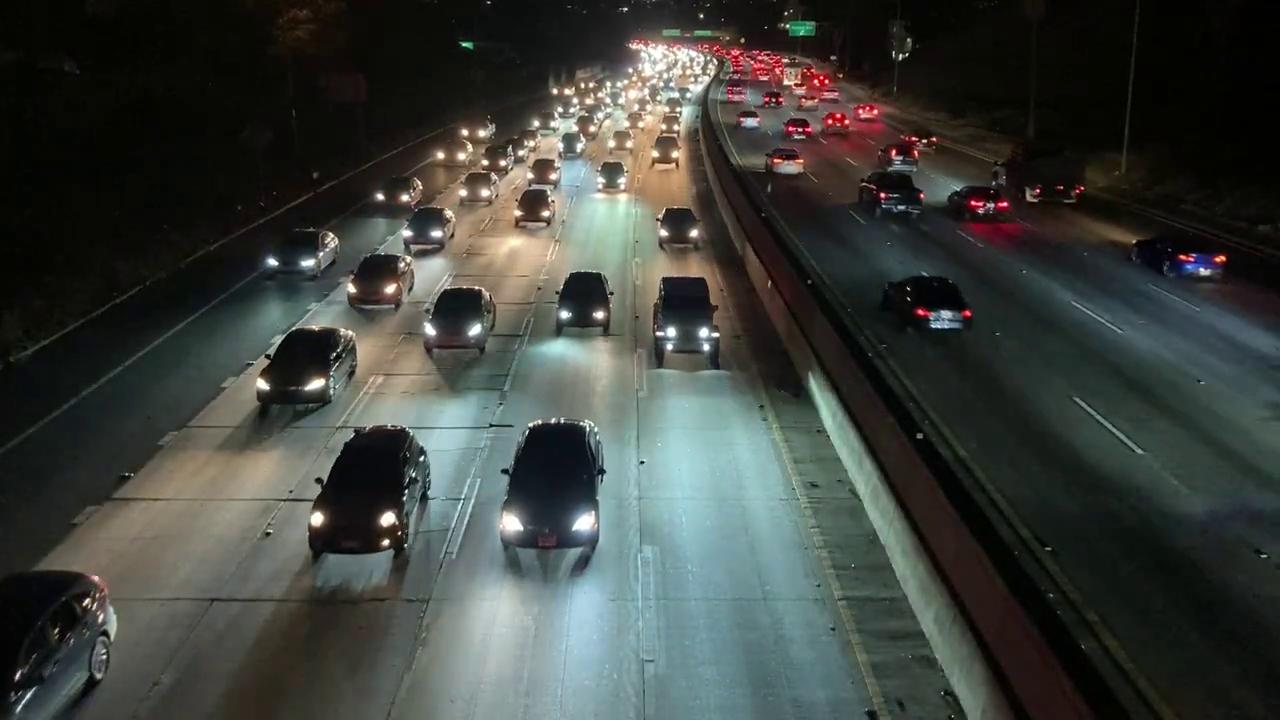car: (496, 411, 618, 574), (302, 427, 436, 562), (0, 556, 107, 720), (250, 322, 355, 418), (653, 273, 732, 362), (1128, 227, 1241, 283), (542, 263, 621, 335), (252, 224, 346, 280), (425, 284, 497, 353), (887, 276, 975, 330), (350, 252, 416, 309), (858, 171, 928, 217), (650, 207, 709, 250), (400, 209, 454, 253), (946, 185, 1005, 221), (513, 190, 557, 231), (457, 167, 502, 206), (372, 177, 424, 210), (873, 141, 922, 172), (431, 141, 486, 166), (519, 156, 565, 185), (590, 160, 627, 193), (900, 127, 945, 153), (768, 147, 808, 175), (648, 140, 684, 171), (458, 117, 504, 137), (552, 133, 588, 158), (784, 119, 817, 142), (618, 107, 646, 131), (821, 110, 849, 132), (607, 132, 636, 153), (657, 114, 686, 135), (851, 103, 885, 120), (736, 109, 762, 131), (762, 89, 784, 111), (818, 86, 841, 103), (798, 94, 820, 111)
